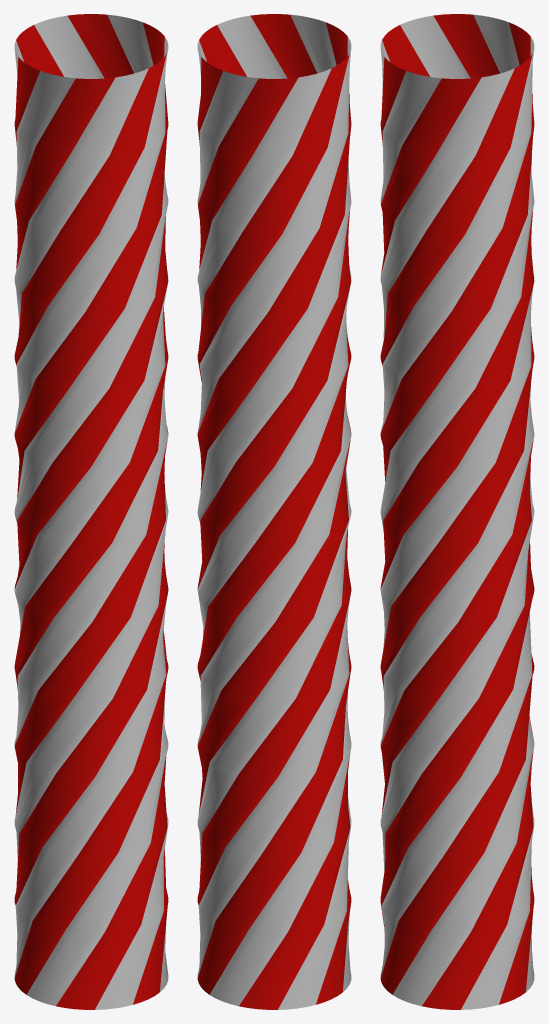
Rendered from StandardCylRedWhiteCandy.glb.
3 renders of one model, left to right at view 1: azimuth 30°, elevation 25°; view 2: azimuth 150°, elevation 25°; view 3: azimuth 270°, elevation 25°, orthographic.
Parts seen in each view (by area): view 1: Candy_Cylinder, Candy_Cylinder.001; view 2: Candy_Cylinder, Candy_Cylinder.001; view 3: Candy_Cylinder, Candy_Cylinder.001.
Part boxes in pixels (x1=…): Candy_Cylinder: x1=14, y1=14, x2=168, y2=1009; Candy_Cylinder.001: x1=14, y1=14, x2=168, y2=1009; Candy_Cylinder: x1=197, y1=14, x2=351, y2=1009; Candy_Cylinder.001: x1=197, y1=14, x2=351, y2=1009; Candy_Cylinder: x1=380, y1=14, x2=534, y2=1009; Candy_Cylinder.001: x1=380, y1=14, x2=534, y2=1009.
Size of the model in its own units: 2 by 13.33 by 2.
